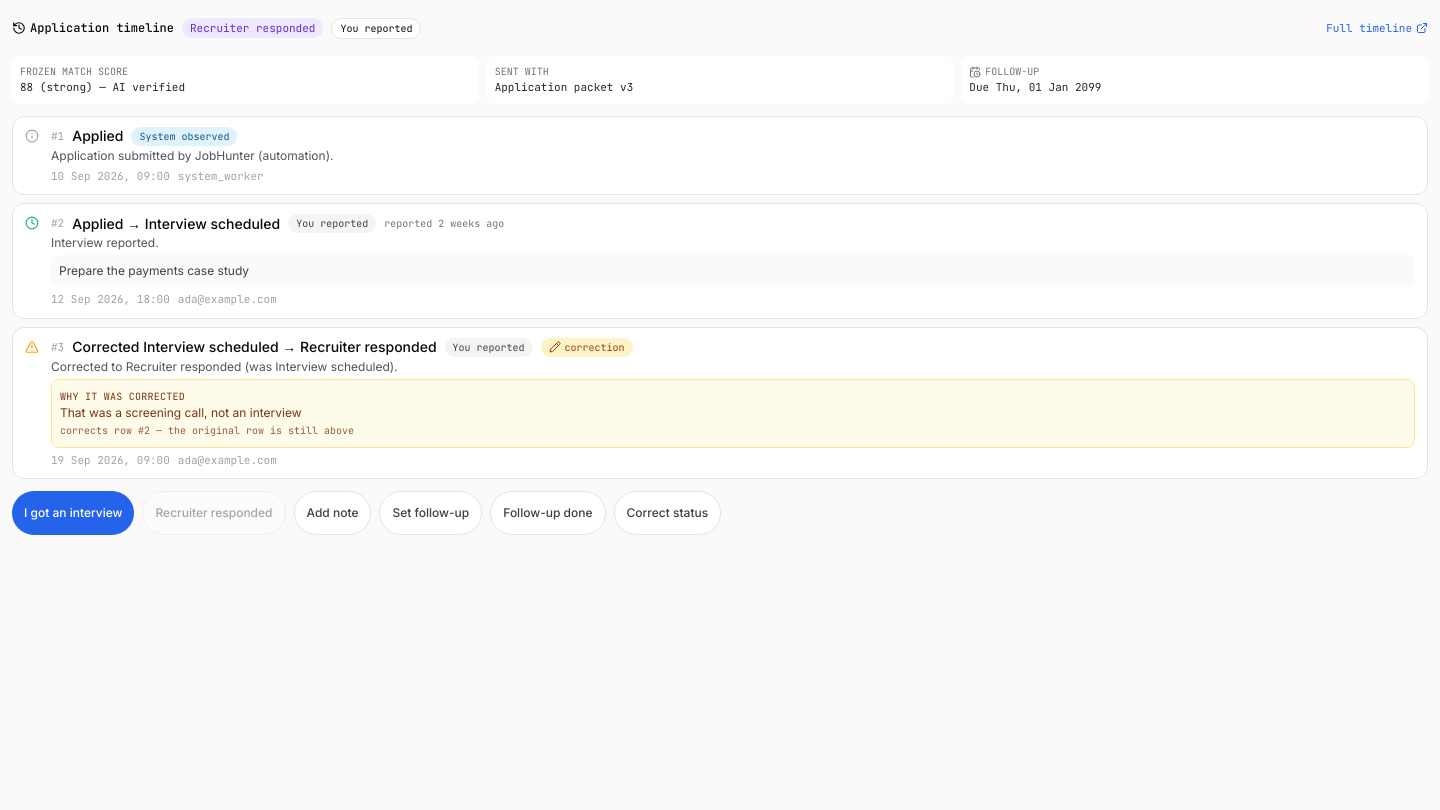
Scenario: TrackingPanel (the Jobs drawer) › shows the refusal when a write fails
The image size is (1440, 810).
Click the button with test id "action-note" at (332, 513), box [294,491,371,535]
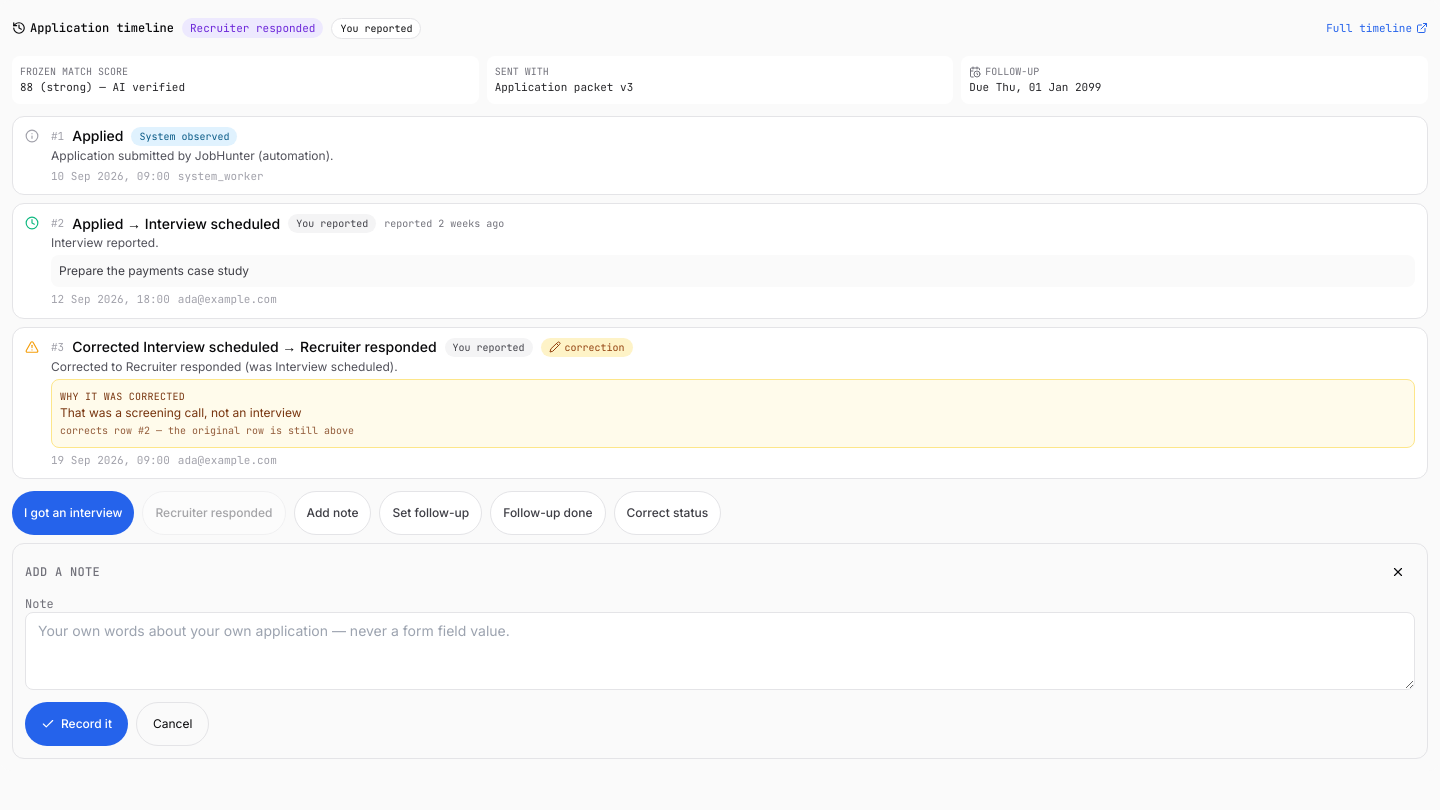
Replace the text in the text box with test id "note-input" with "They offered me the job" at (720, 651), box [25,612,1415,690]
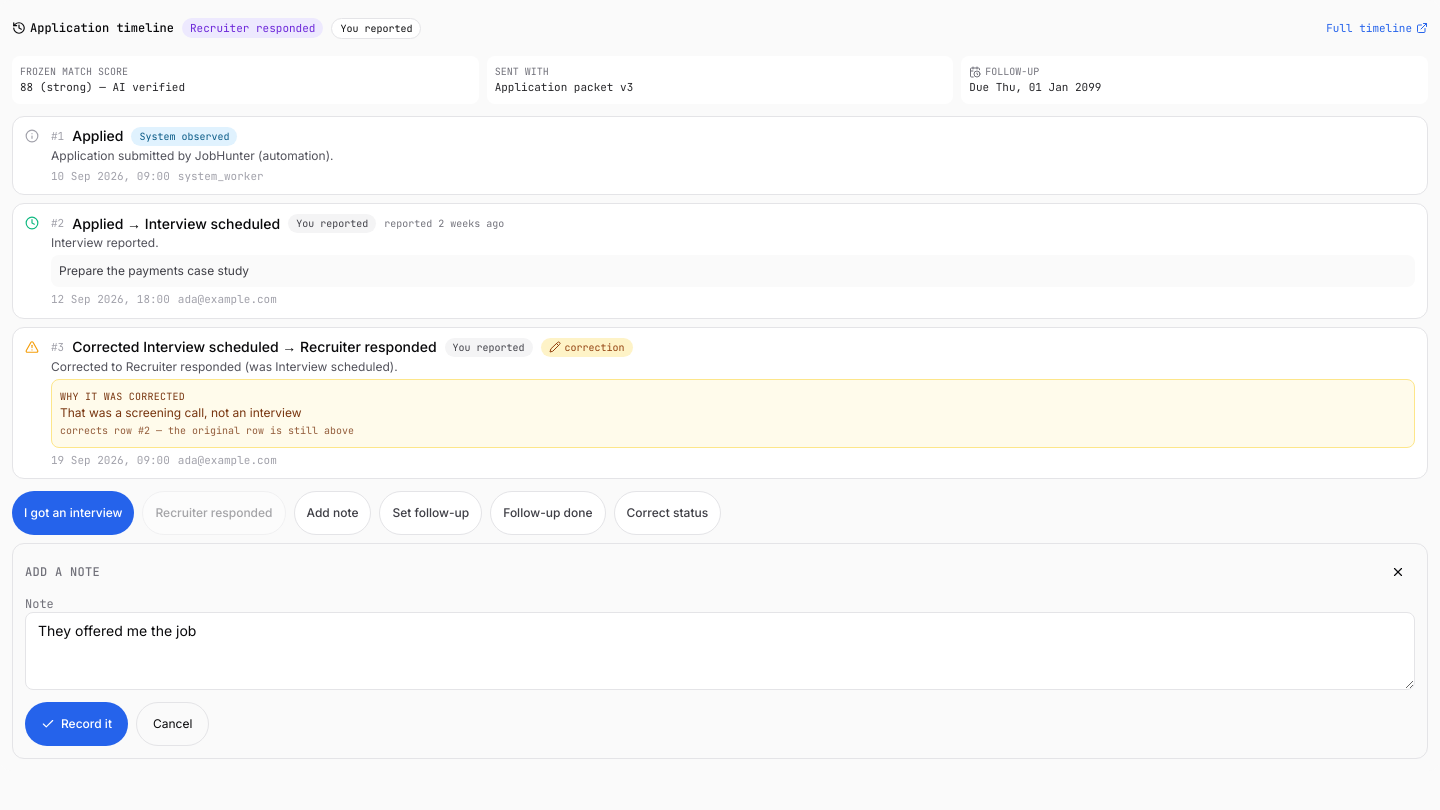
Click the button with test id "form-submit" at (76, 724), box [25,702,128,746]
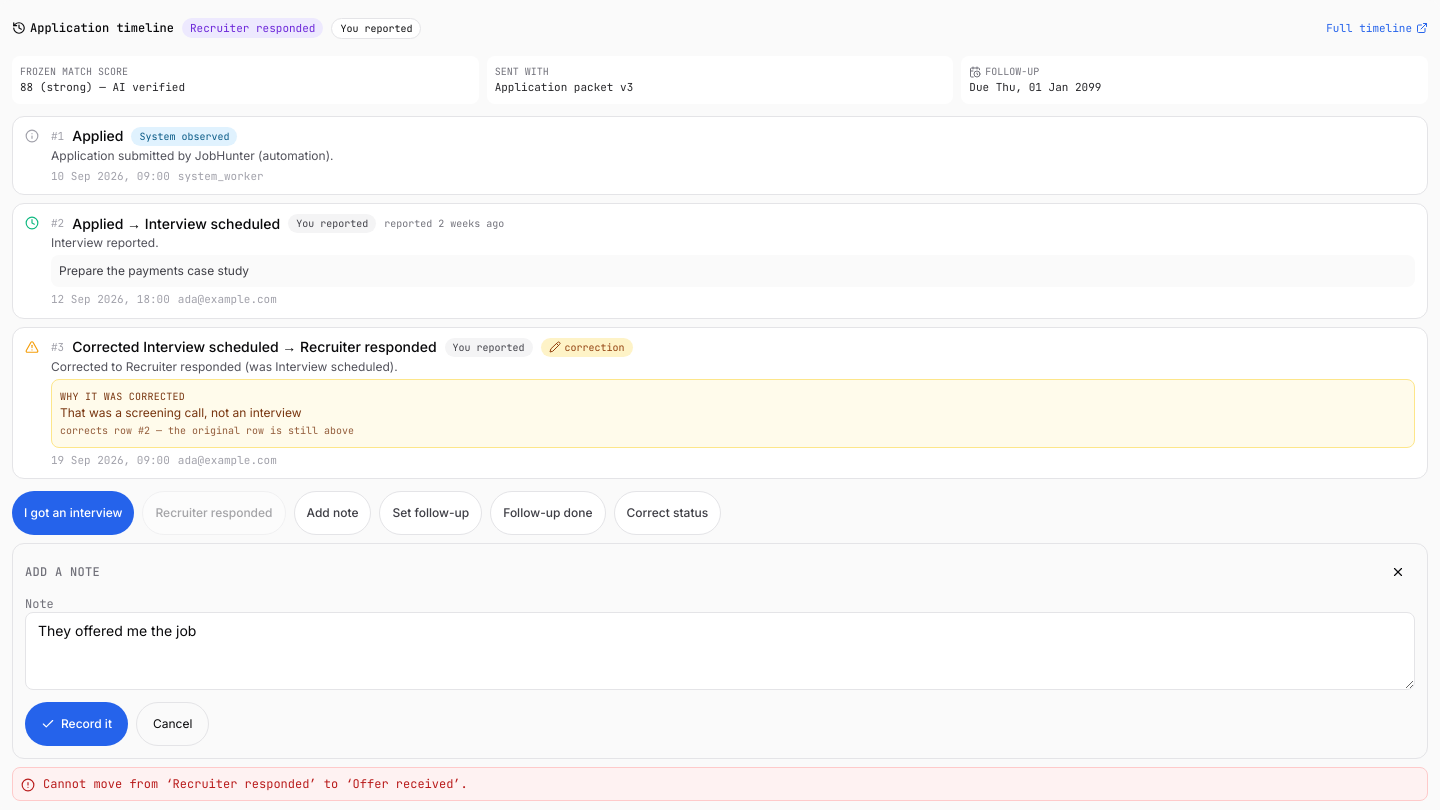
Expected: the message "Cannot move from ‘Recruiter responded’ to ‘Offer received’." is shown, [12,767,1428,801]
Expected: the message with test id "tracking-error" shows "Cannot move from", [43,776,468,792]
